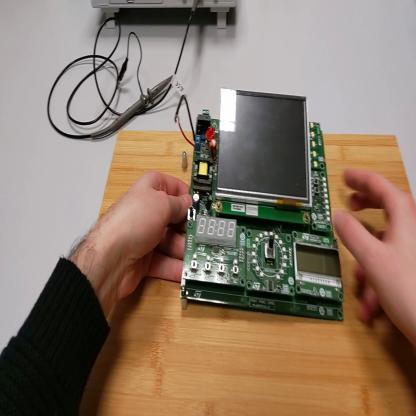hand: (336, 166, 416, 340), (100, 167, 195, 304)
low voltage board: (176, 88, 347, 324)
oscilloscope: (93, 2, 236, 30)
oscilloscope probe tip: (92, 75, 173, 144)
working area: (80, 126, 416, 415)
